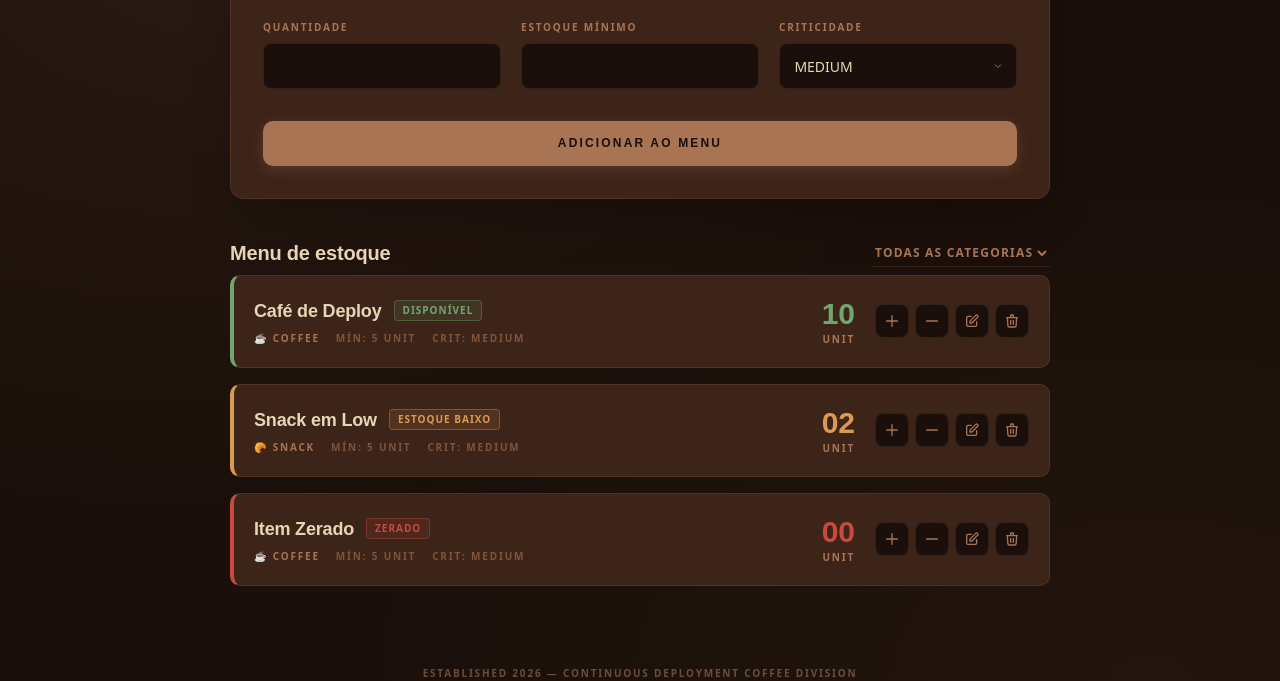
it: PipelineCafePage › ações no cardápio › remove item após confirmação
(page scrolled)
Click the button titled "Remover" next to "10": (1012, 321) [995, 304, 1029, 338]
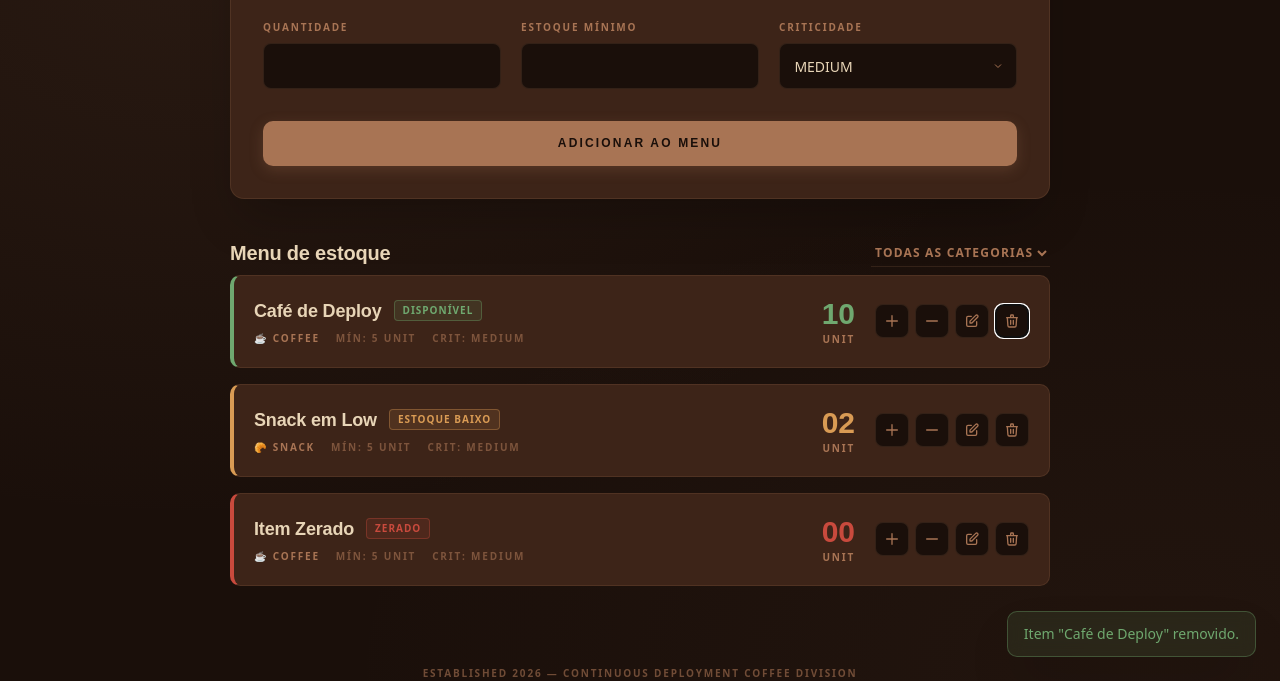
Expected: the text "Item \"Café de Deploy\" removido." is shown, [1007, 611, 1256, 657]
